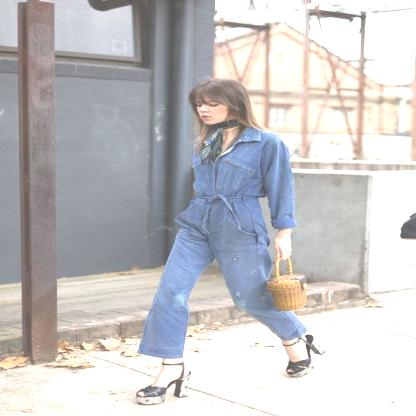dress: (138, 128, 316, 346)
